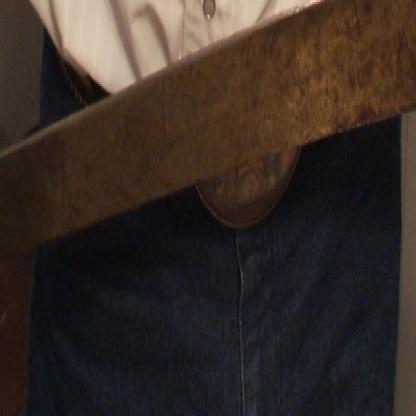knife: (0, 0, 415, 311)
